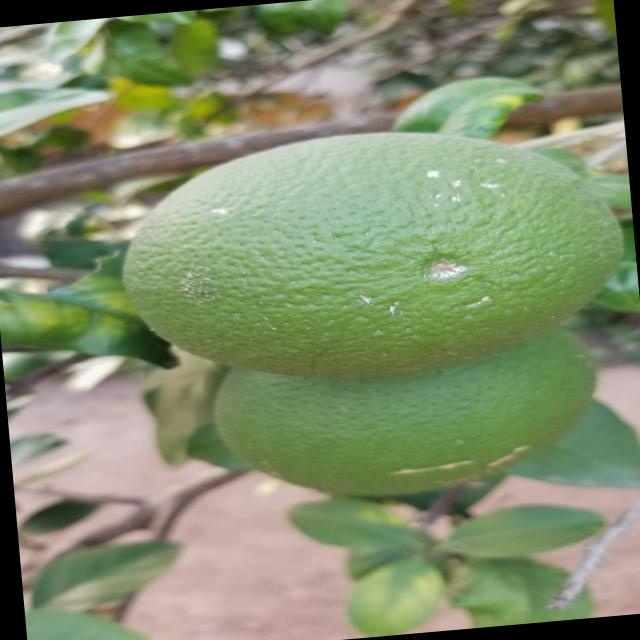agrume: (99, 112, 634, 396), (179, 321, 616, 518)
